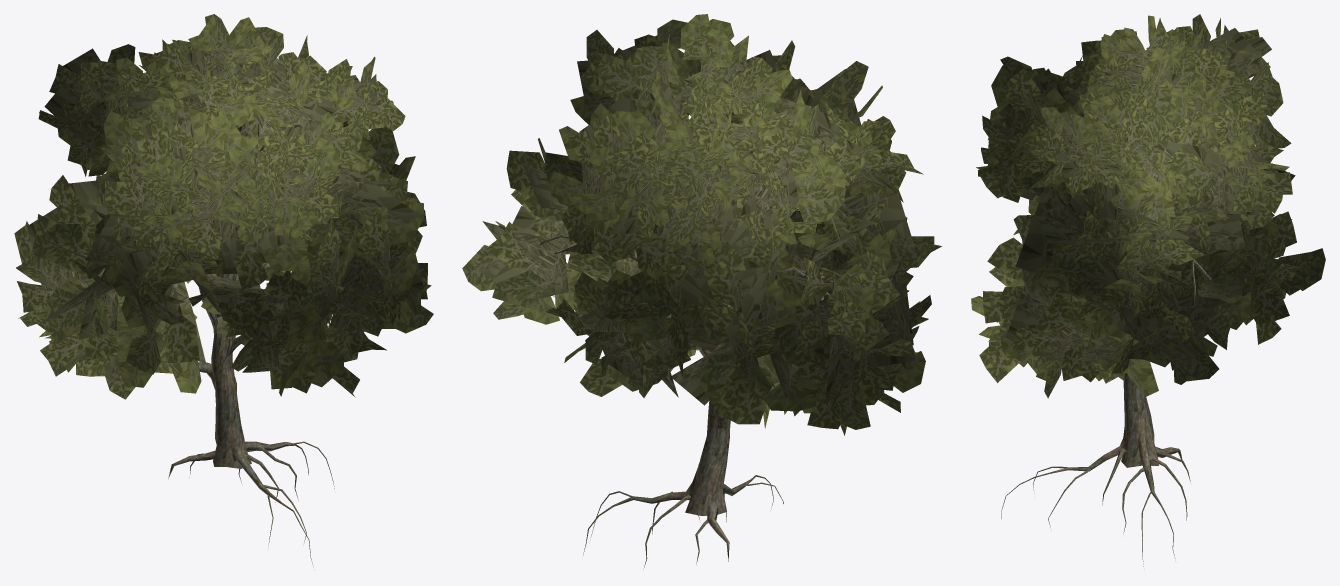
Rendered from Tree.obj.
The picture shows the model from 3 angles, left to right: view 1: azimuth 30°, elevation 25°; view 2: azimuth 150°, elevation 25°; view 3: azimuth 270°, elevation 25°; orthographic projection. The views are drawn at different scales.
Parts seen in each view (by area): view 1: Leaf1, Trunk1; view 2: Leaf1, Trunk1; view 3: Leaf1, Trunk1.
Part boxes in pixels (x1,y1,x2,y2): Leaf1: [14, 14, 433, 399]; Trunk1: [99, 70, 334, 566]; Leaf1: [462, 14, 941, 435]; Trunk1: [533, 61, 856, 568]; Leaf1: [971, 14, 1325, 398]; Trunk1: [1001, 141, 1217, 566].
Size of the model in its own units: 29.62 by 35.36 by 22.72.
Materials: 2 (2 with a texture image).
